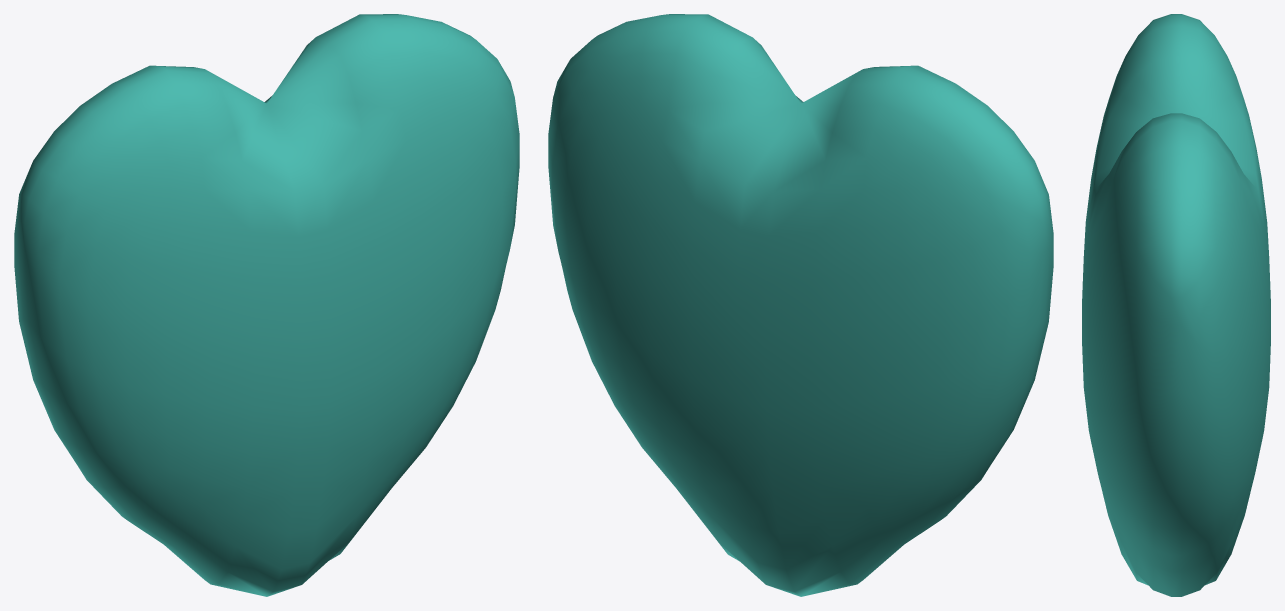
Rendered from heartDark.gltf.
3 renders of one model, left to right at view 1: azimuth 30°, elevation 25°; view 2: azimuth 150°, elevation 25°; view 3: azimuth 270°, elevation 25°, orthographic. The views are drawn at different scales.
Visible parts, largest first — view 1: Cube; view 2: Cube; view 3: Cube.
Part boxes in pixels (x1,y1,x2,y2): Cube: (14, 14, 519, 596); Cube: (548, 14, 1053, 596); Cube: (1082, 14, 1270, 596).
Bounding box in the file's own units: 2 × 2.16 × 0.7055.
